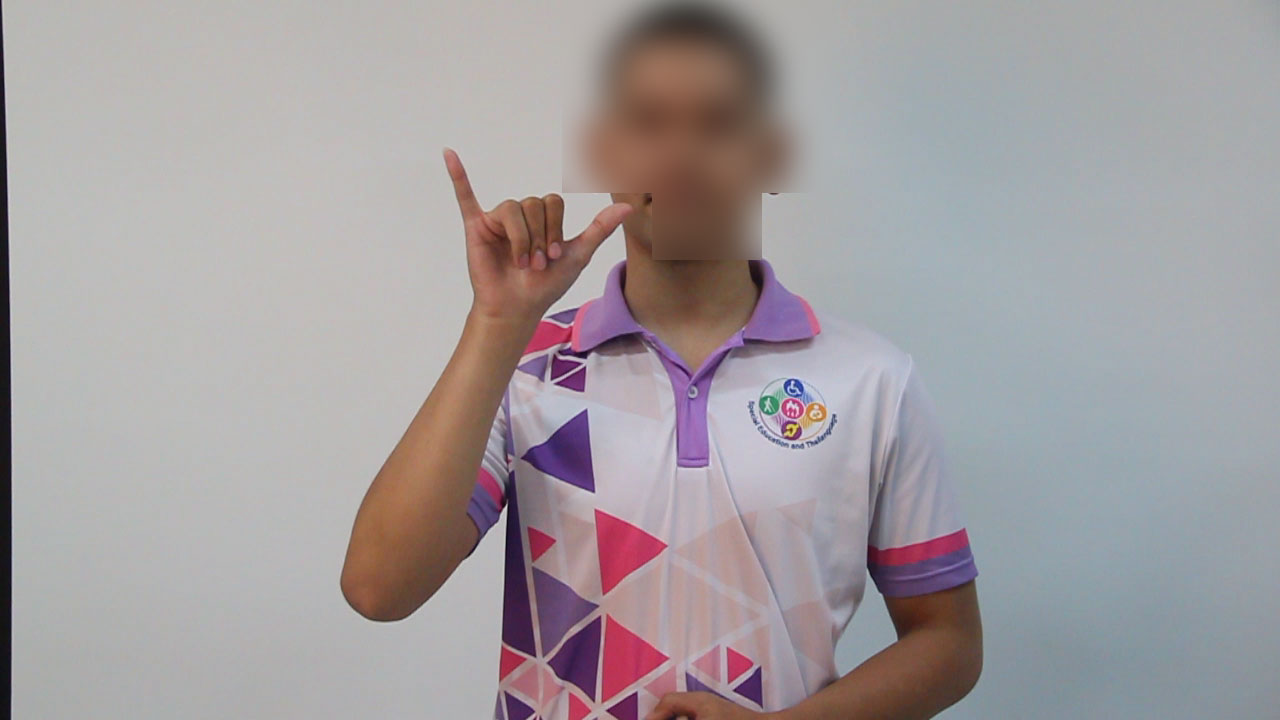yor: (429, 140, 640, 324)
